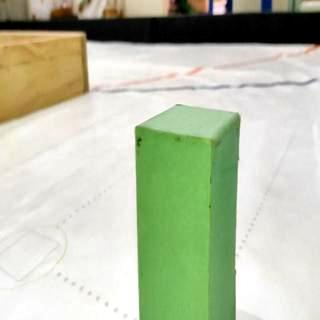greenbox: (132, 101, 242, 320)
